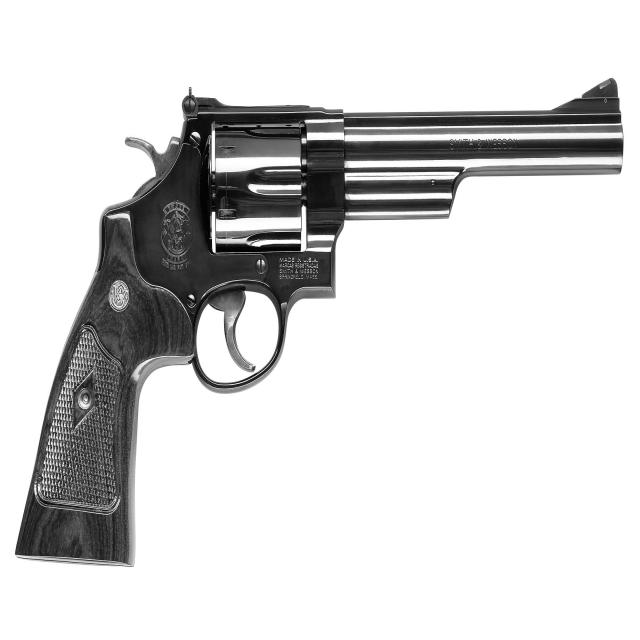Hand-Gun: (6, 64, 628, 579)
